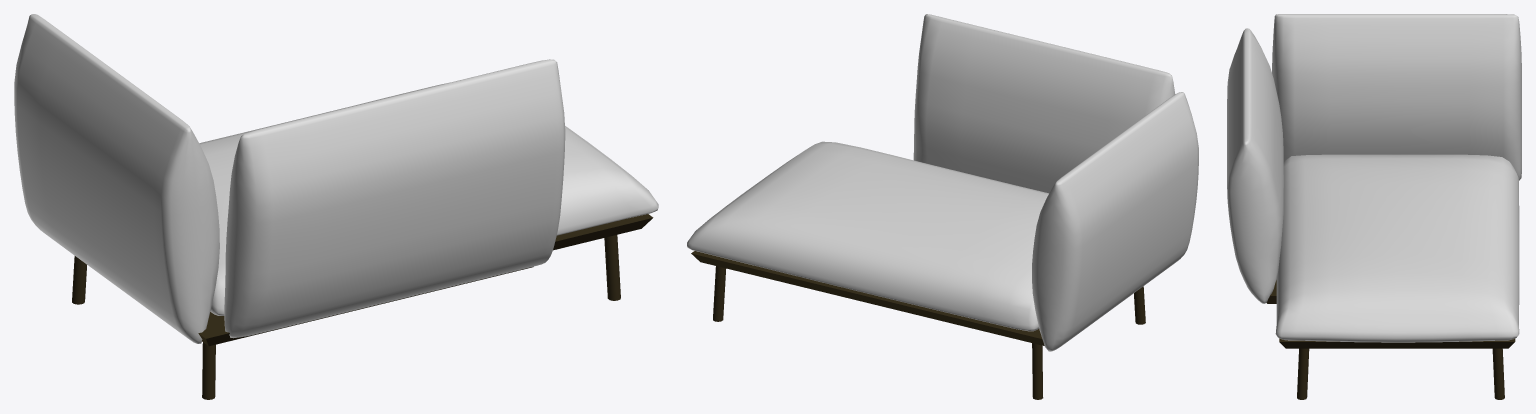
The model's file is MSH_Roof2_Sillon.fbx.
3 views of the same model, side by side, from view 1: azimuth 30°, elevation 25°; view 2: azimuth 150°, elevation 25°; view 3: azimuth 270°, elevation 25° (orthographic). The views are drawn at different scales.
Parts seen in each view (by area): view 1: MSH_Roof2_Sillon; view 2: MSH_Roof2_Sillon; view 3: MSH_Roof2_Sillon.
Part boxes in pixels (x1,y1,x2,y2): MSH_Roof2_Sillon: [14, 14, 658, 399]; MSH_Roof2_Sillon: [687, 14, 1198, 399]; MSH_Roof2_Sillon: [1227, 14, 1521, 399].
Size of the model in its own units: 133 by 72.99 by 88.7.
